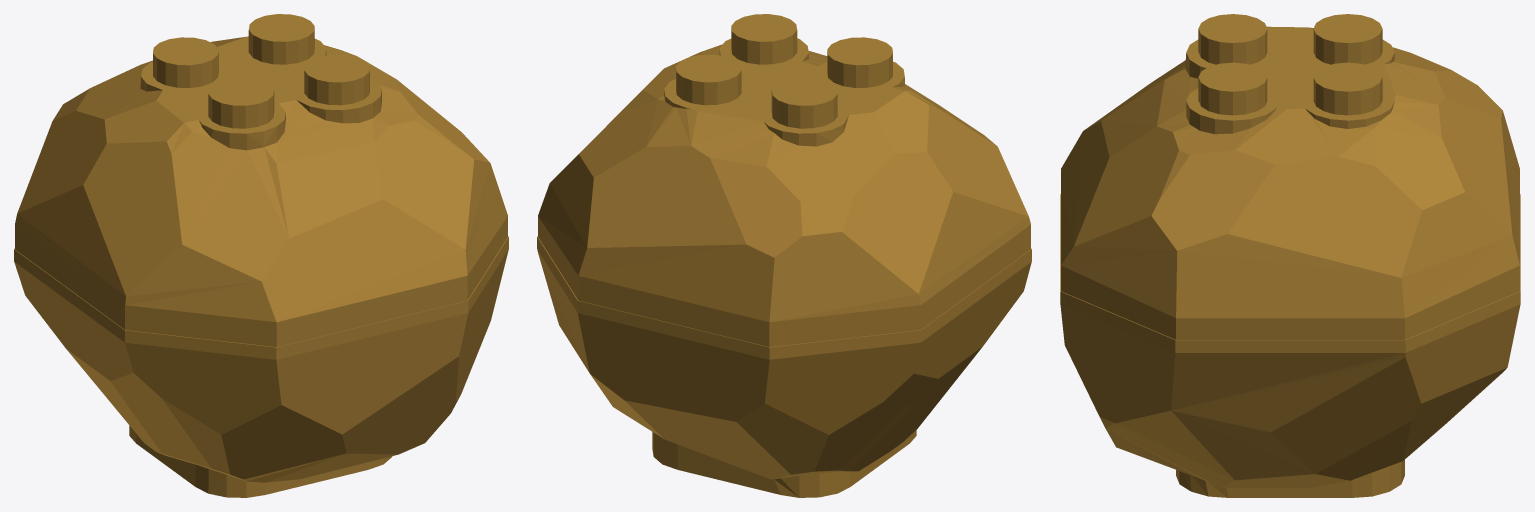
File: BigCrystal.fbx
3 views of the same model, side by side, from view 1: azimuth 30°, elevation 25°; view 2: azimuth 150°, elevation 25°; view 3: azimuth 270°, elevation 25° (orthographic). The views are drawn at different scales.
Visible parts, largest first — view 1: Part.017; view 2: Part.017; view 3: Part.017.
Part boxes in pixels (<box>): Part.017: <box>14,14,508,497</box>; Part.017: <box>537,14,1031,497</box>; Part.017: <box>1060,14,1520,497</box>.
Bounding box in the file's own units: 3200 × 3044 × 3200.
